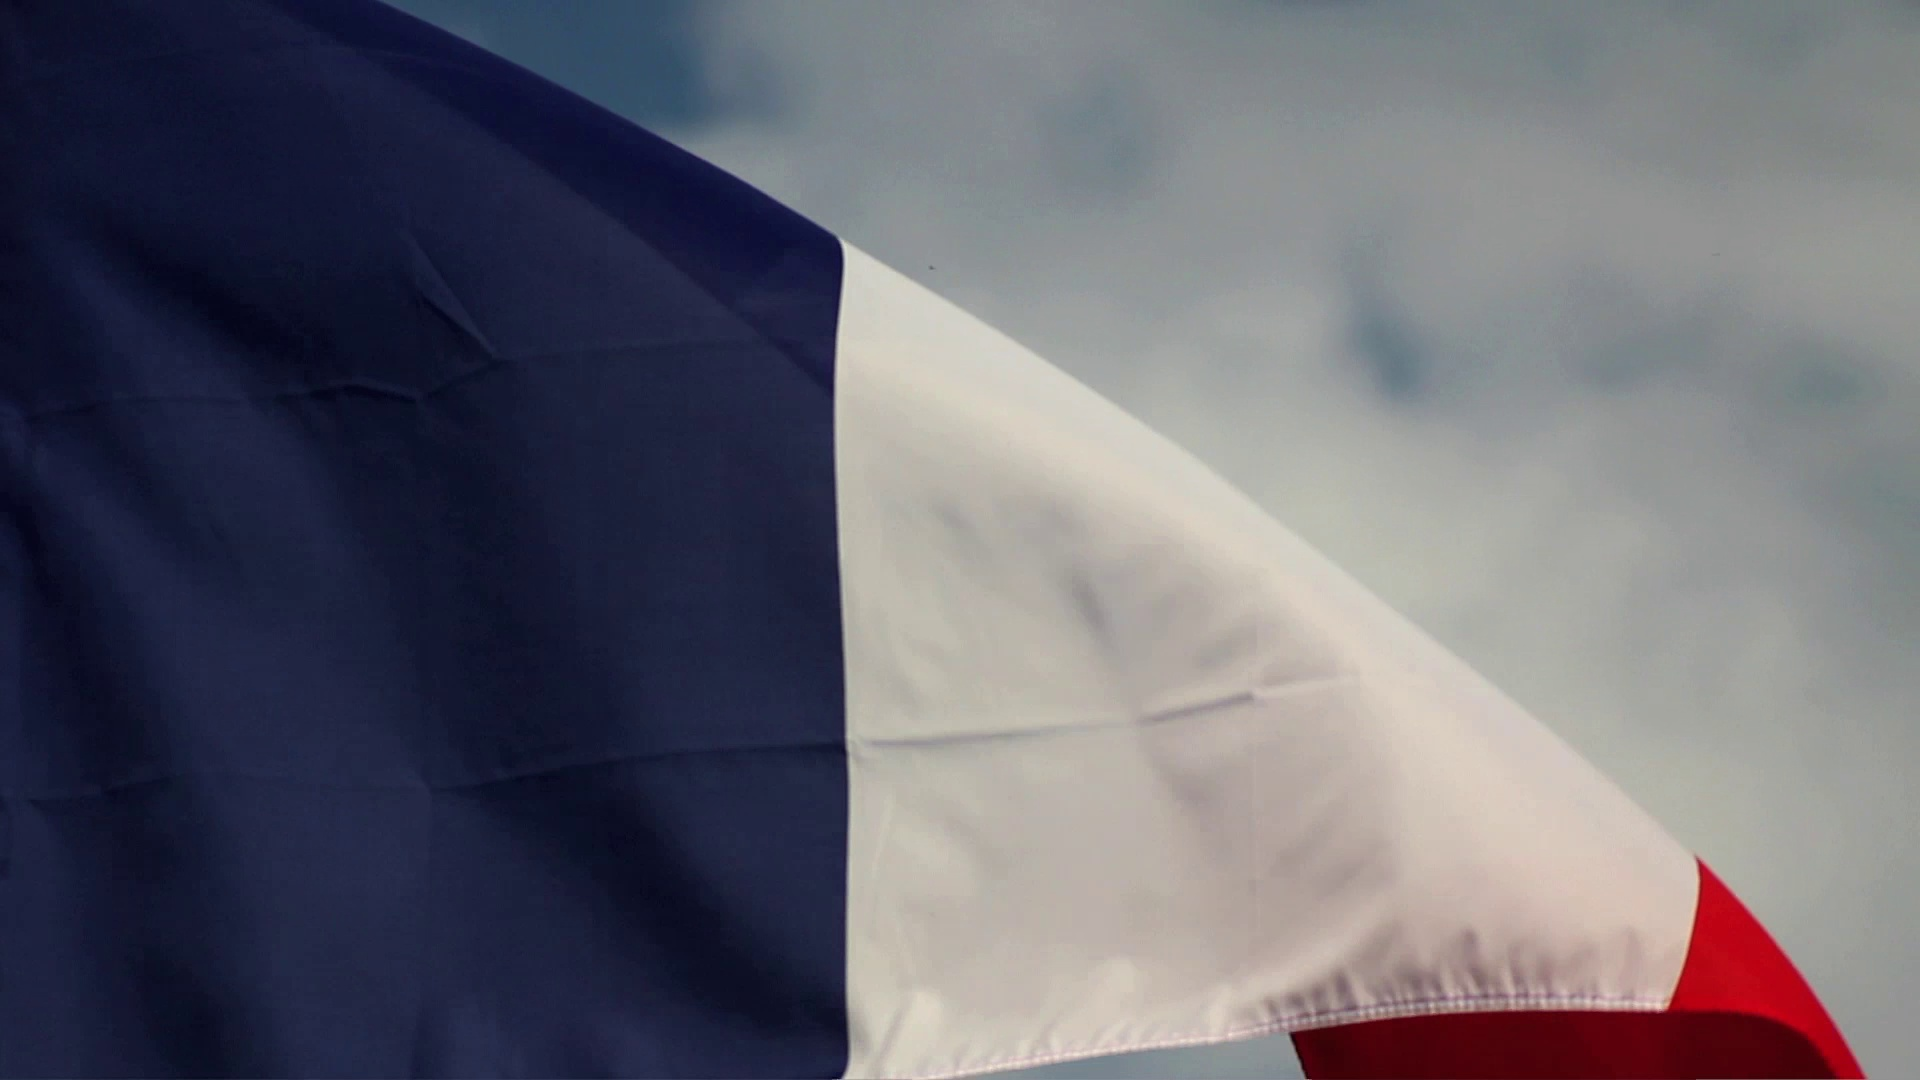French Flag: (1, 1, 1859, 1080)
